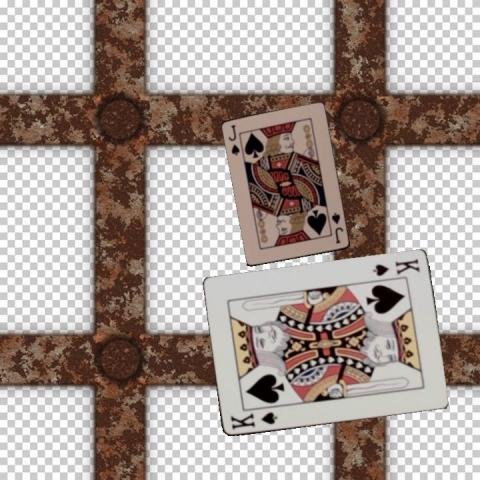Js: (328, 210, 344, 245), (226, 122, 241, 157)
Ks: (227, 410, 279, 432), (369, 256, 421, 278)
